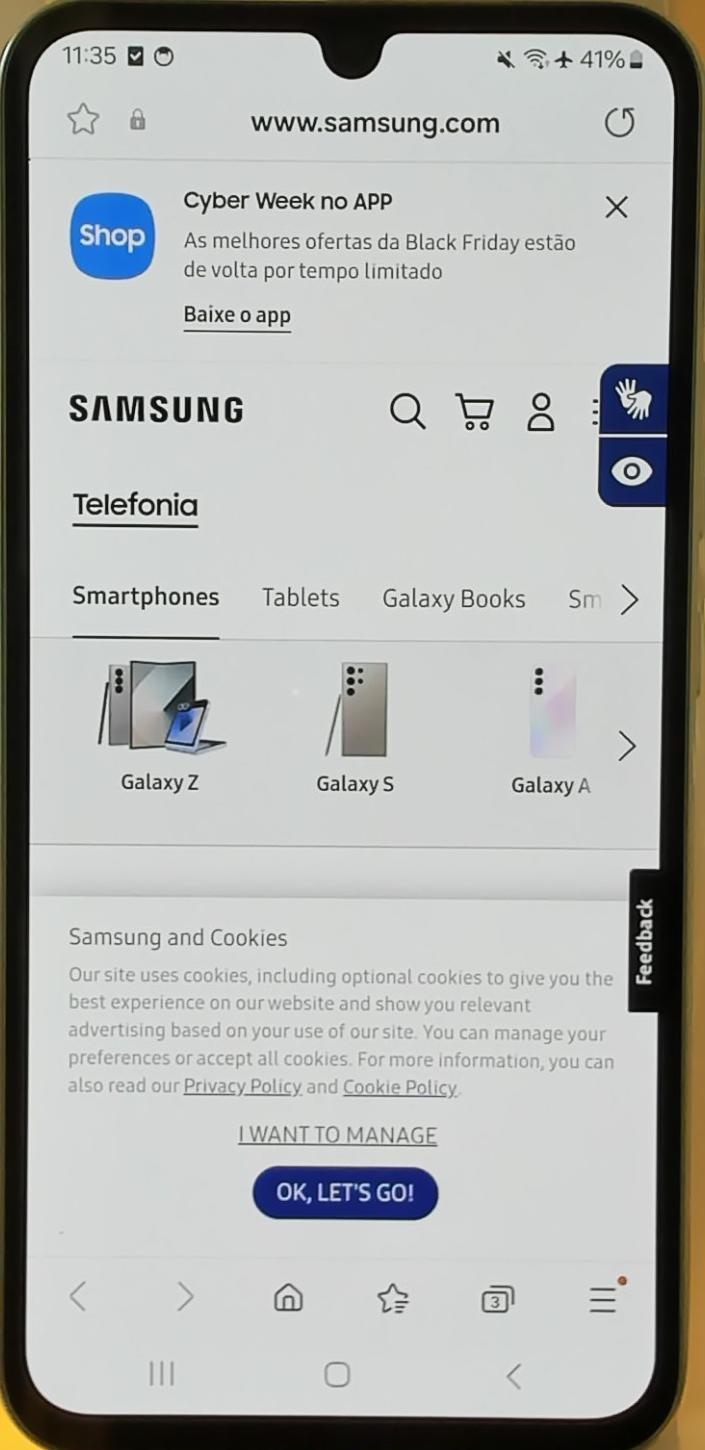CommunBotton: (250, 1160, 450, 1232), (222, 1110, 454, 1158), (64, 572, 230, 620), (166, 292, 306, 344), (372, 580, 540, 614), (258, 572, 348, 620), (380, 372, 432, 448), (466, 1266, 528, 1326), (450, 384, 504, 442), (518, 380, 566, 442), (310, 1346, 364, 1400), (262, 1272, 318, 1324), (368, 1270, 416, 1324), (56, 1266, 100, 1322), (138, 1346, 188, 1392), (600, 96, 642, 144), (170, 1270, 204, 1322), (496, 1352, 536, 1396), (608, 720, 640, 770), (596, 188, 634, 226), (616, 572, 644, 622)
menu: (583, 1271, 645, 1321)
